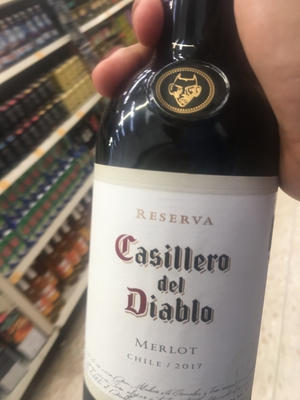casillero del diablo merlot: (72, 16, 280, 400)
